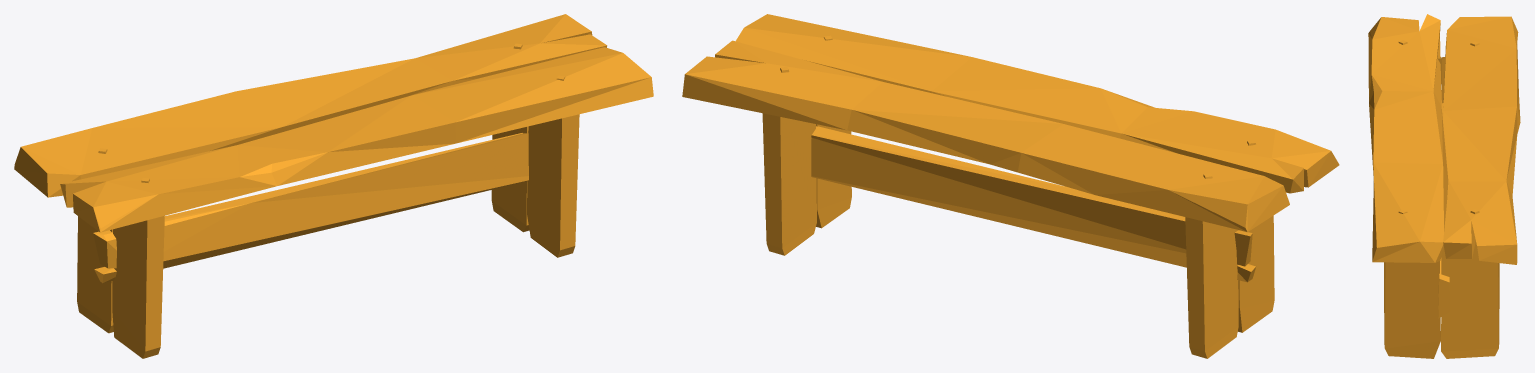
Rendered from SM_Bench_Simple_B_Fantasy.fbx.
3 views of the same model, side by side, from view 1: azimuth 30°, elevation 25°; view 2: azimuth 150°, elevation 25°; view 3: azimuth 270°, elevation 25° (orthographic). The views are drawn at different scales.
Parts seen in each view (by area): view 1: bench-simple-b-fantasy; view 2: bench-simple-b-fantasy; view 3: bench-simple-b-fantasy.
Boxes of the visible parts, <box> form: bench-simple-b-fantasy: <box>14,14,653,358</box>; bench-simple-b-fantasy: <box>682,14,1339,358</box>; bench-simple-b-fantasy: <box>1368,14,1520,358</box>.
Bounding box in the file's own units: 1.74 × 0.5082 × 0.4849.
